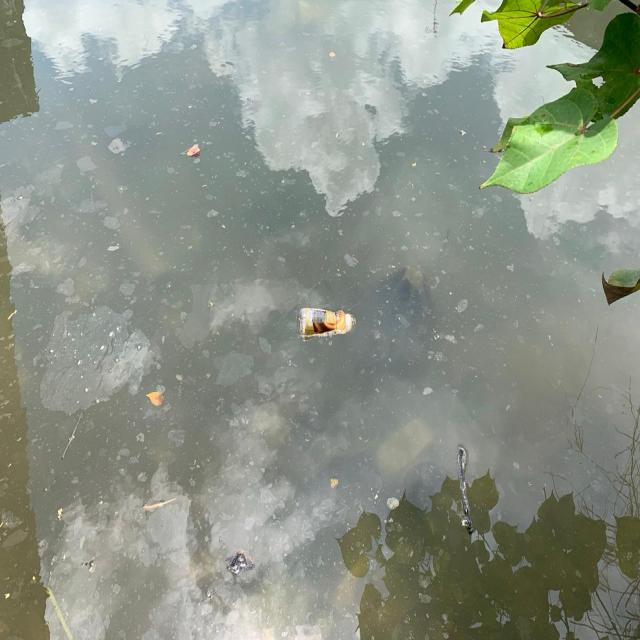Botol Plastik: (297, 303, 363, 349)
